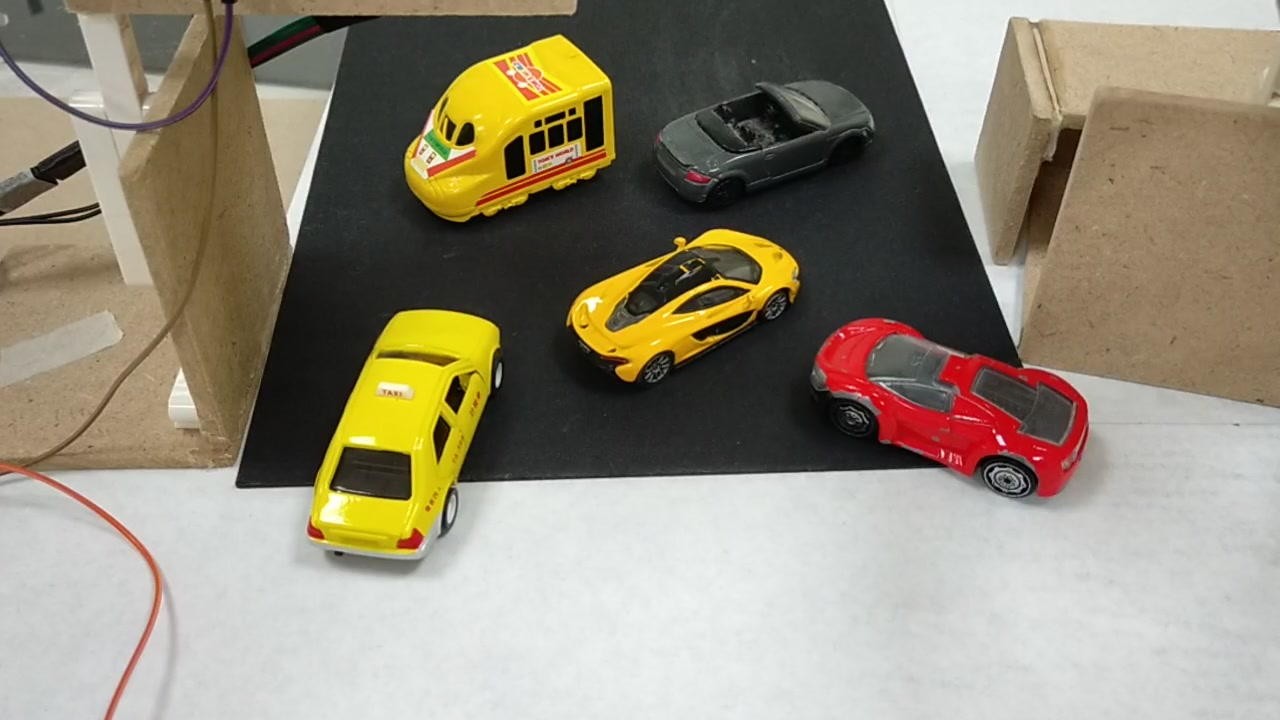car: (294, 318, 530, 552), (817, 310, 1088, 505), (637, 56, 879, 216), (558, 244, 812, 386)
